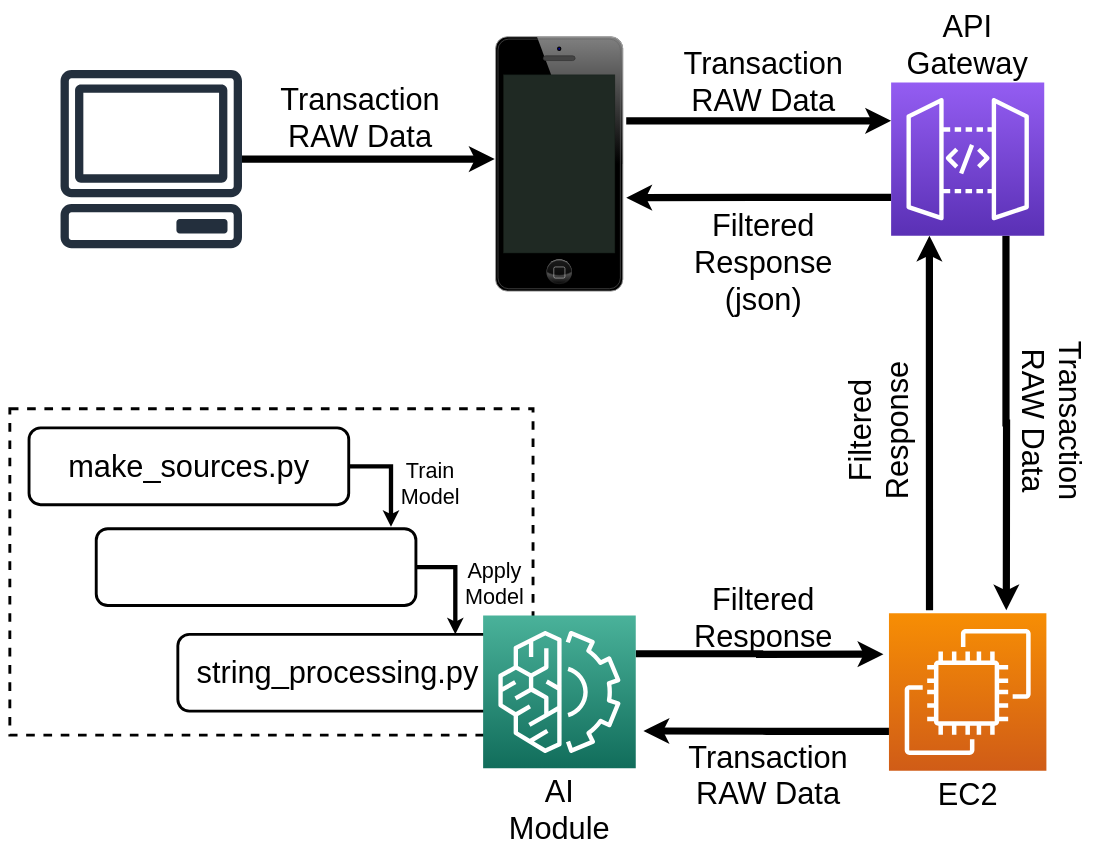
The diagram is 1096 pixels wide and 854 high, and some of its shapes have lost their labels. Here are the shapes that lost their labels. From the top down, the centre of each, then its label:
the point at 151,159: Card Company
the point at 256,567: sources_dict.pkl
